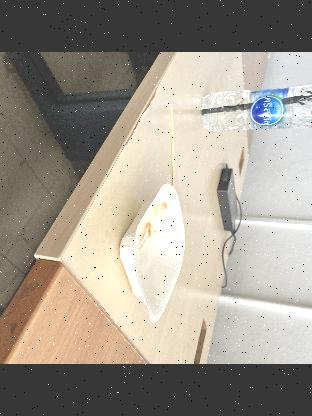Others: (115, 182, 188, 322), (164, 104, 178, 192)
Plastic Bottle: (198, 82, 312, 134)
